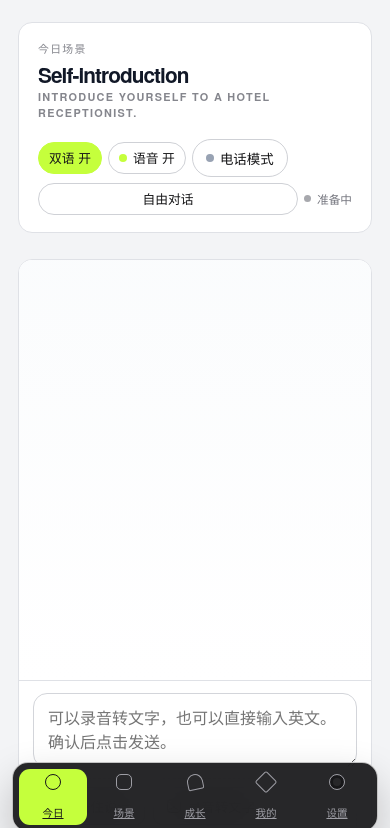
Scenario: mutes auto-play of AI replies with one click
The width and height of the screenshot is (390, 828).
Click the button with aria-label "AI 回复自动朗读中，点击静音".
click(147, 158)  # box top-left (108, 142), bottom-right (186, 174)
(page scrolled)
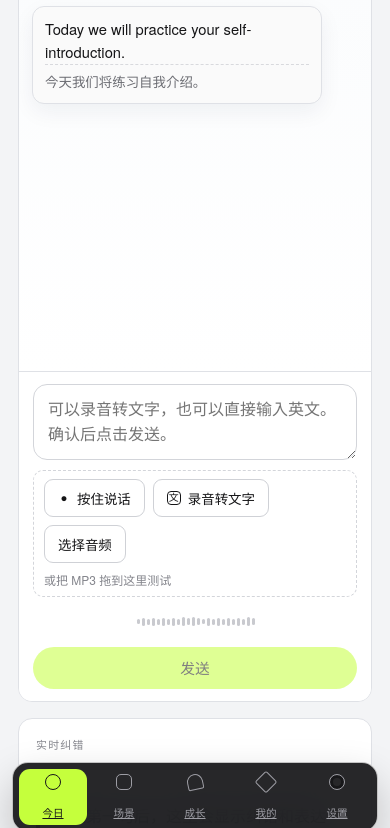
Type "I want to check in, please." into the text box named "输入你的回答".
click(195, 422); type("I want to check in, please.")  # box top-left (33, 384), bottom-right (357, 460)
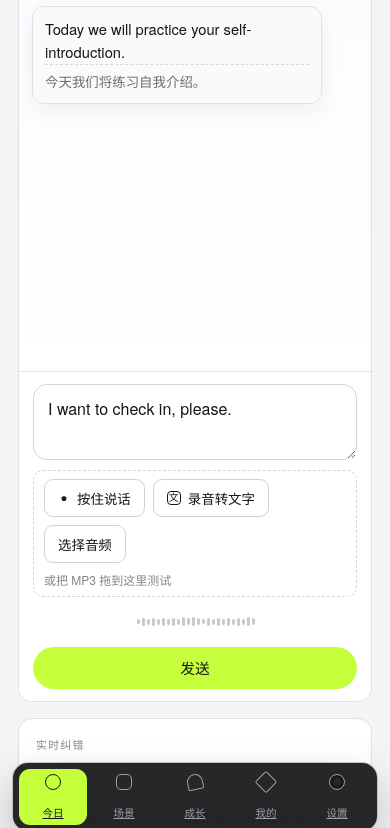
Click the button "发送".
click(195, 668)  # box top-left (33, 647), bottom-right (357, 689)
(page scrolled)
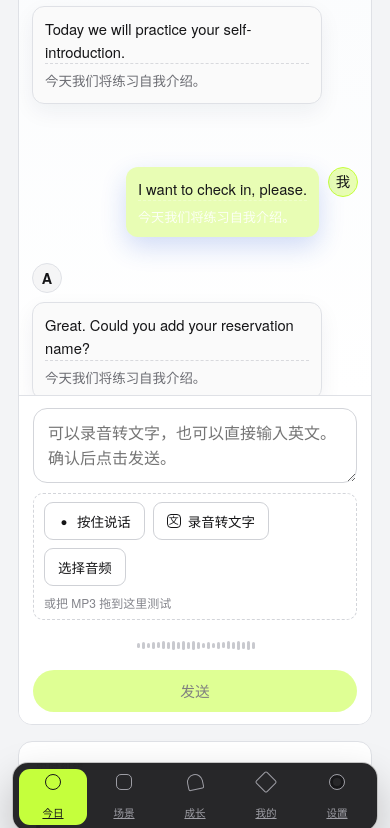
Check: the text "Great. Could you add your reservation name?" is shown, box top-left (45, 314), bottom-right (309, 360)
